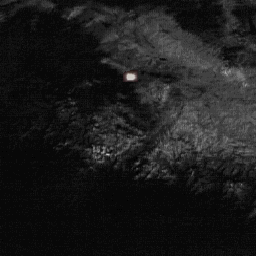Target: (124, 72, 138, 82)
